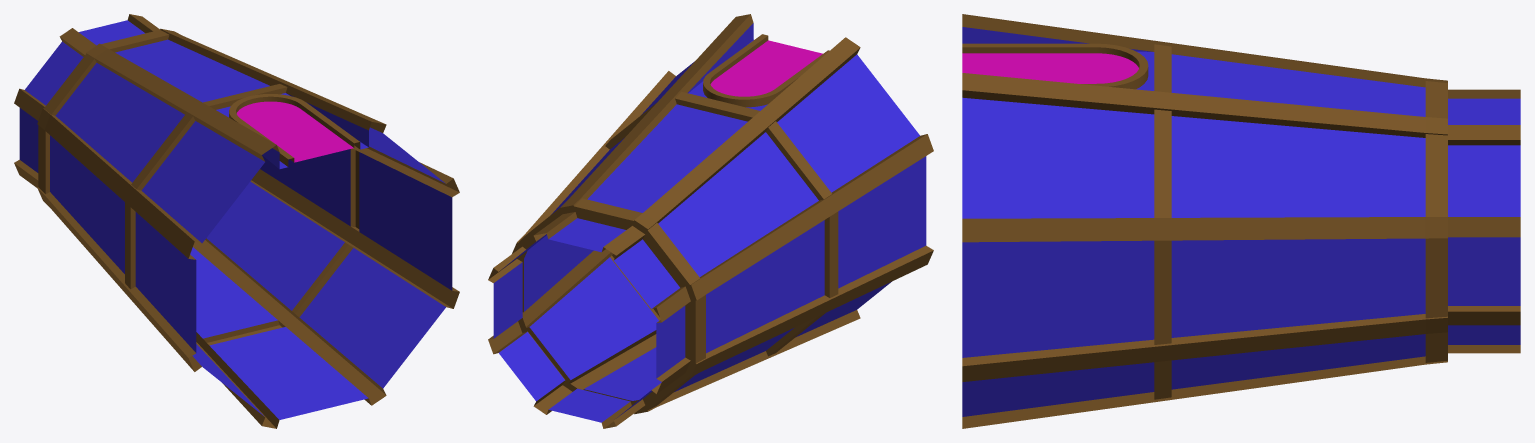
File: Windmill_Base.fbx
3 renders of one model, left to right at view 1: azimuth 30°, elevation 25°; view 2: azimuth 150°, elevation 25°; view 3: azimuth 270°, elevation 25°, orthographic. The views are drawn at different scales.
Visible parts, largest first — view 1: Cylinder.005; view 2: Cylinder.005; view 3: Cylinder.005.
Part boxes in pixels (x1=…): Cylinder.005: x1=14, y1=14, x2=459, y2=428; Cylinder.005: x1=488, y1=14, x2=933, y2=428; Cylinder.005: x1=962, y1=14, x2=1520, y2=428.
Bounding box in the file's own units: 1213 × 1213 × 1728.
